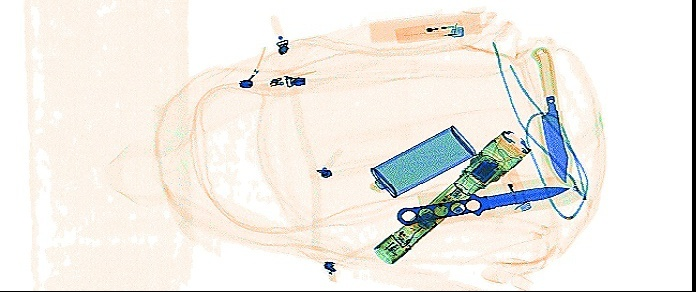knife: (394, 180, 571, 224), (528, 42, 571, 183)
lighter: (492, 146, 532, 211), (393, 17, 464, 44)
zippooil: (368, 122, 475, 200)
